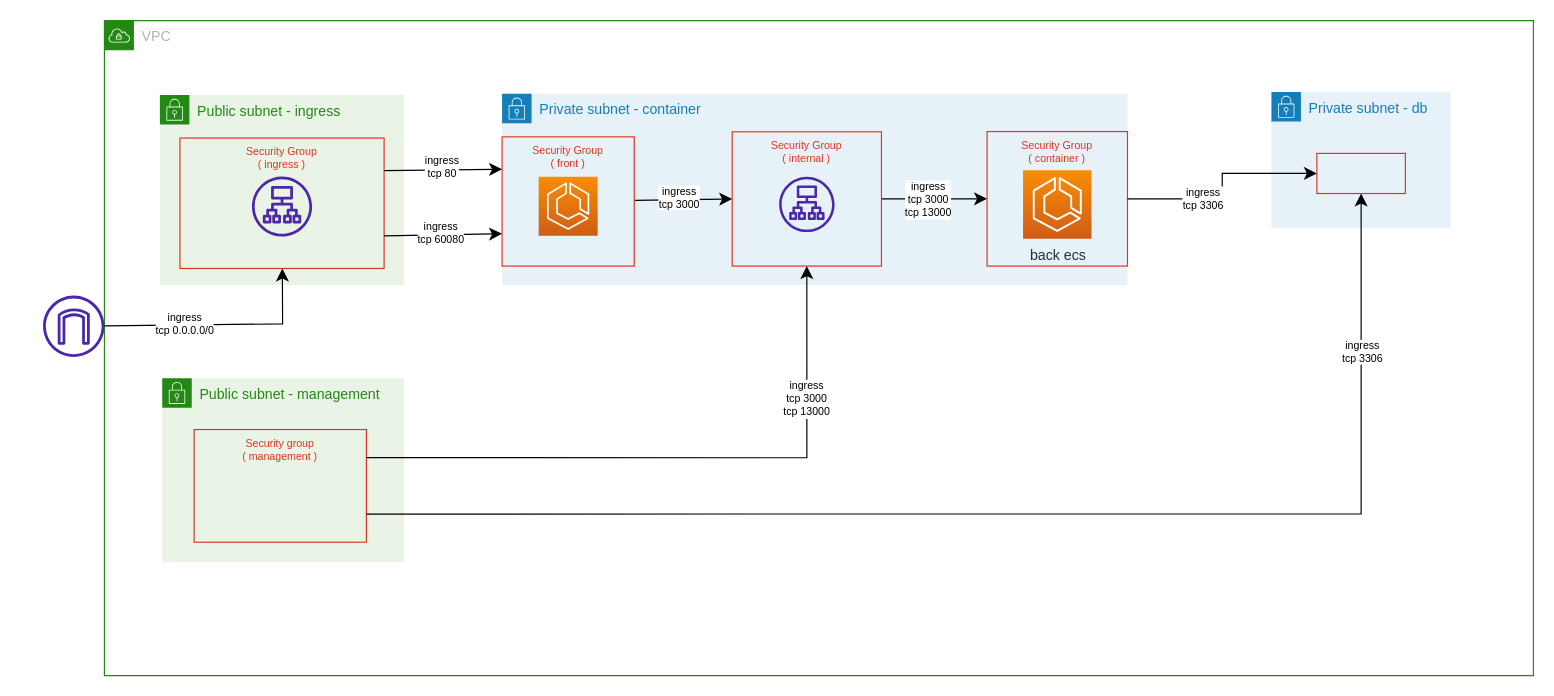
The diagram is 1554 pixels wide and 696 high, and some of its shapes have lost their labels. The shapes that lost their labels are listed below. From the top down, each one's centre as x and y in pixels, then its label:
At [1360,173]: "Security group ( db )".
At [281,206]: "ingress alb".
At [567,205]: "front ecs".
At [806,204]: "internal alb".
At [73,325]: "Internet Gateway".
